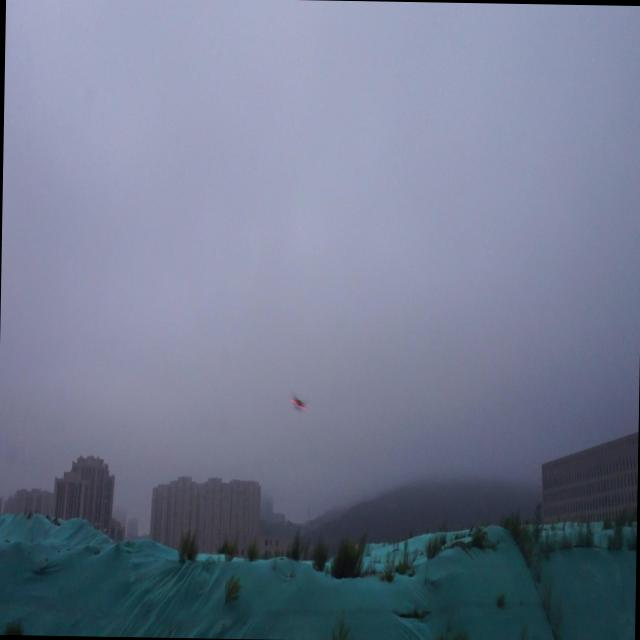drone: (290, 392, 308, 416)
